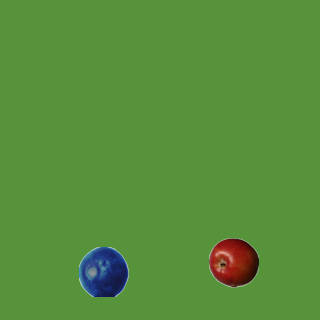Apple Braeburn: (208, 237, 258, 287)
Huckleberry: (78, 246, 128, 296)
